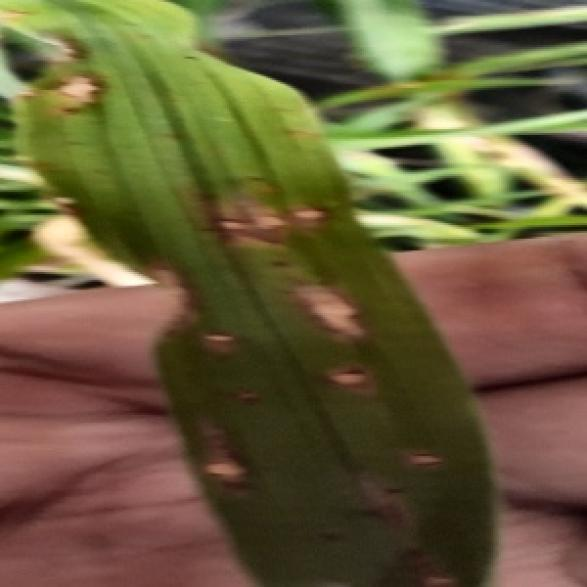Leaf_smut: (151, 276, 454, 585)
